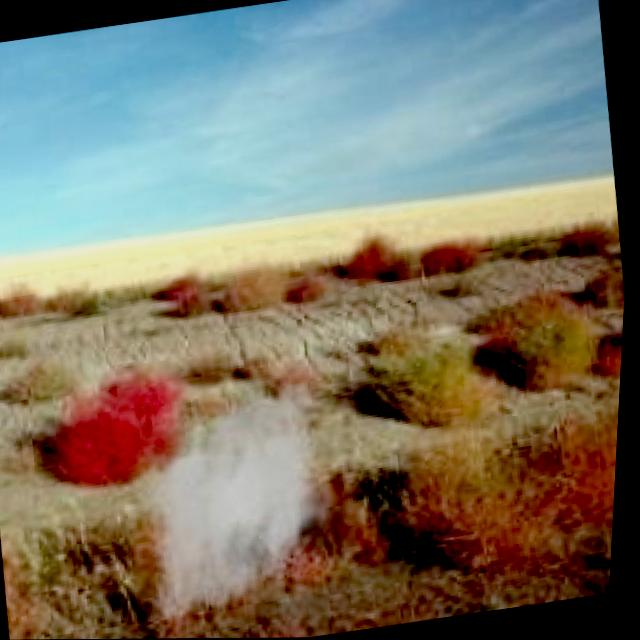Smoke: (113, 367, 363, 635)
